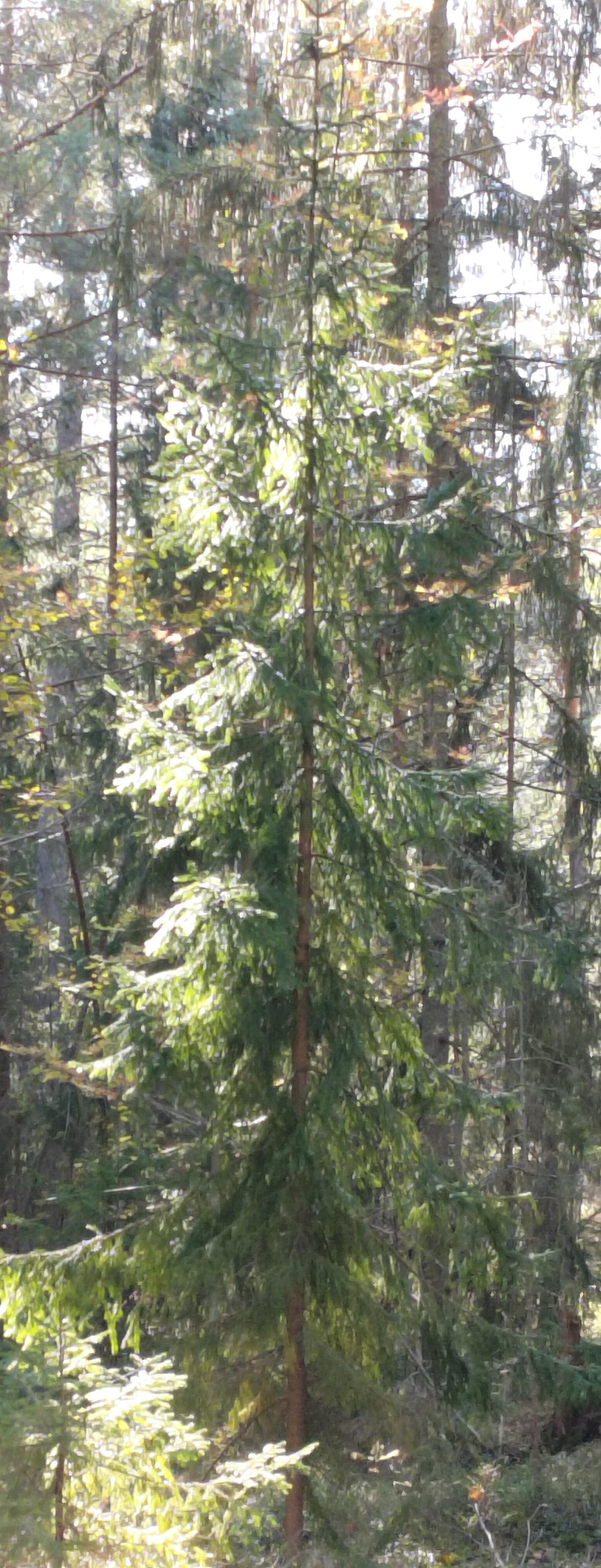Spruce: (3, 2, 598, 1553)
